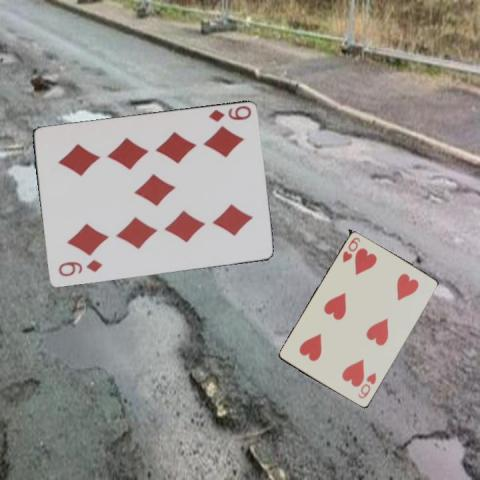6h: (355, 370, 378, 401), (340, 235, 362, 264)
9d: (55, 257, 104, 278), (204, 103, 252, 123)
